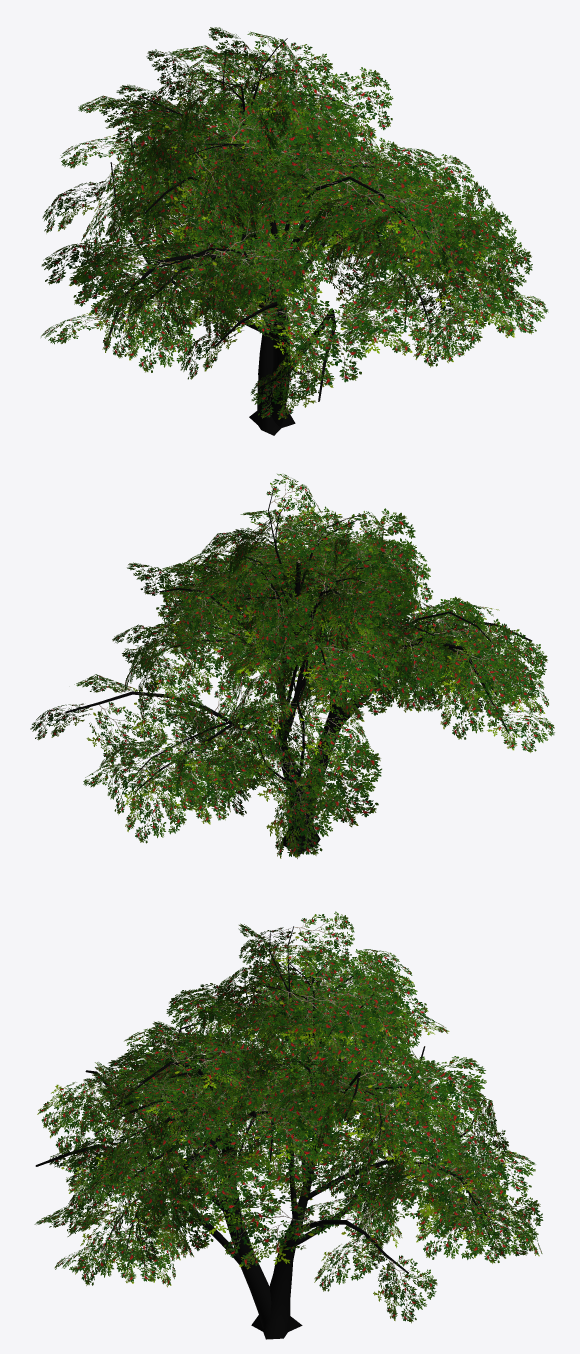
The model's file is HornedHollyTree_1.fbx.
The picture shows the model from 3 angles, top to bottom: view 1: azimuth 30°, elevation 25°; view 2: azimuth 150°, elevation 25°; view 3: azimuth 270°, elevation 25°; orthographic projection. The views are drawn at different scales.
Parts seen in each view (by area): view 1: HornedHollyTree_1; view 2: HornedHollyTree_1; view 3: HornedHollyTree_1.
Part boxes in pixels (bbox=[...]): HornedHollyTree_1: bbox=[41, 27, 548, 435]; HornedHollyTree_1: bbox=[30, 474, 554, 858]; HornedHollyTree_1: bbox=[34, 911, 543, 1339].
Size of the model in its own units: 693 by 535 by 682.
